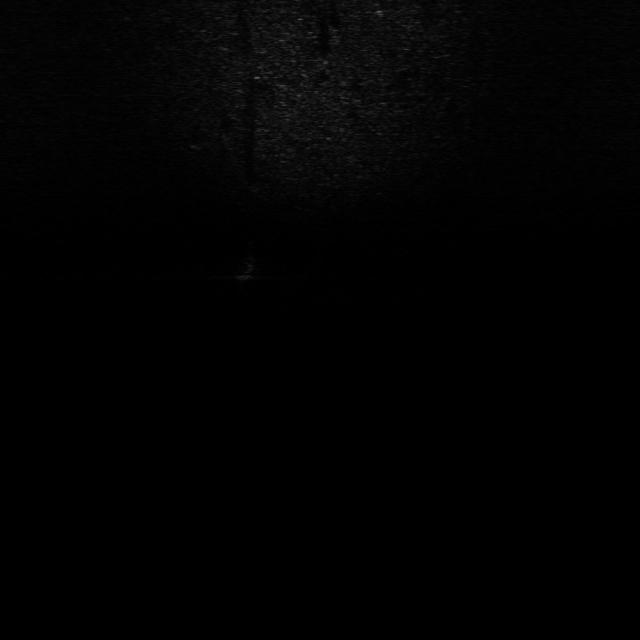human body: (231, 238, 263, 298)
